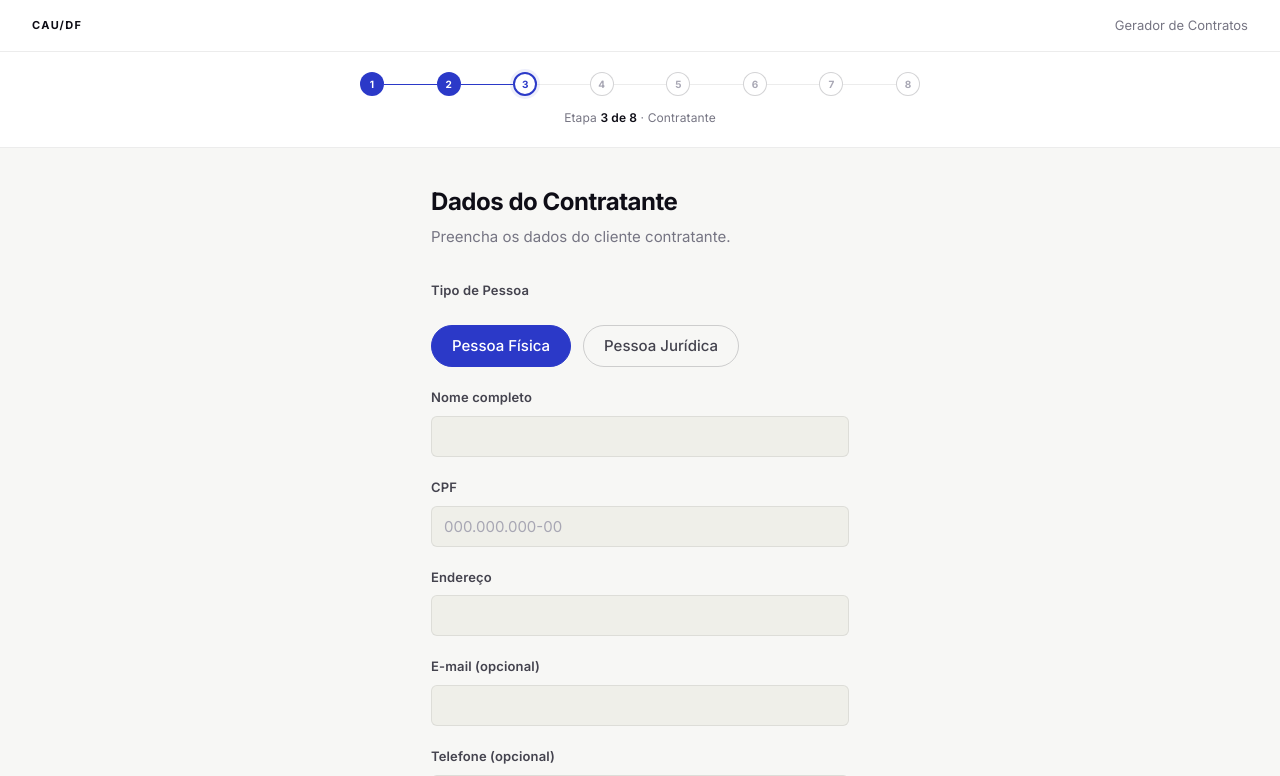
Test: ClientFormPage › all valid PF fields enables continue button
Type "João Silva" into the field labelled "Nome completo" at (640, 436), box [431,416,849,457]
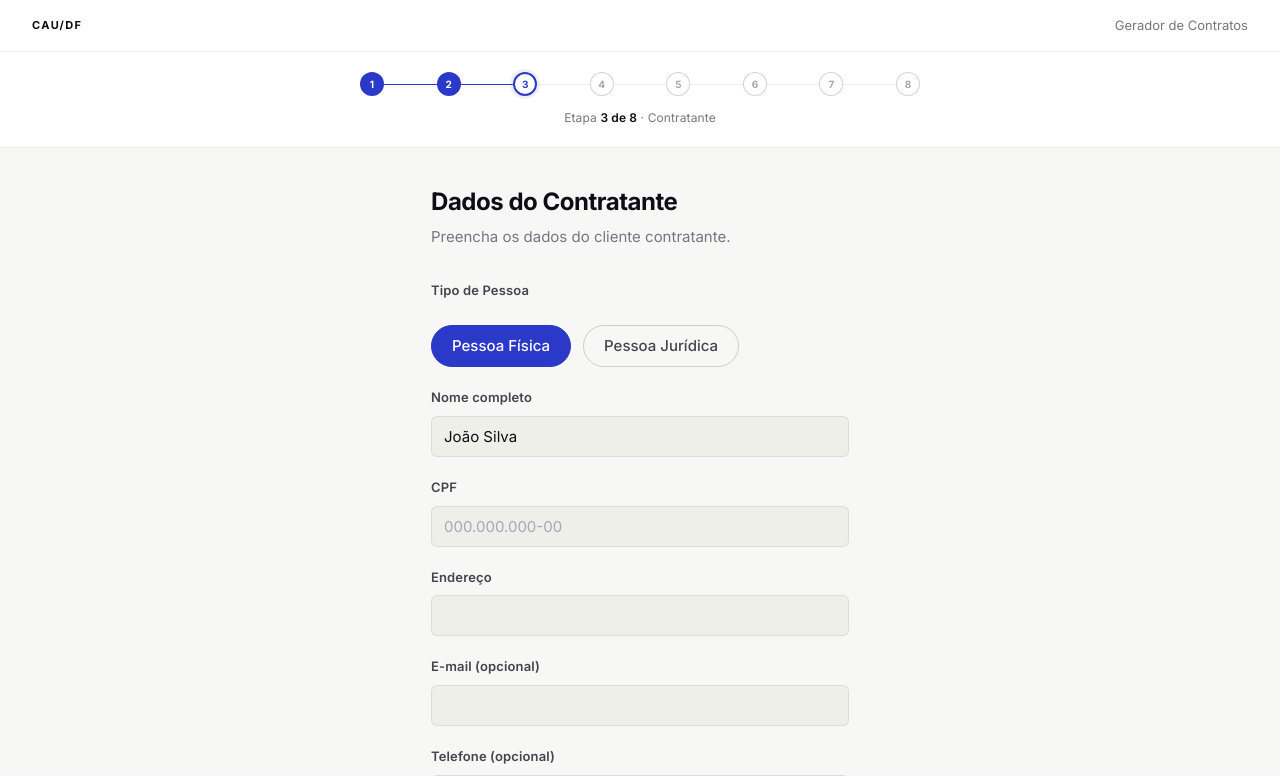
Type "529.982.247-25" into the field labelled "CPF" at (640, 526), box [431,506,849,547]
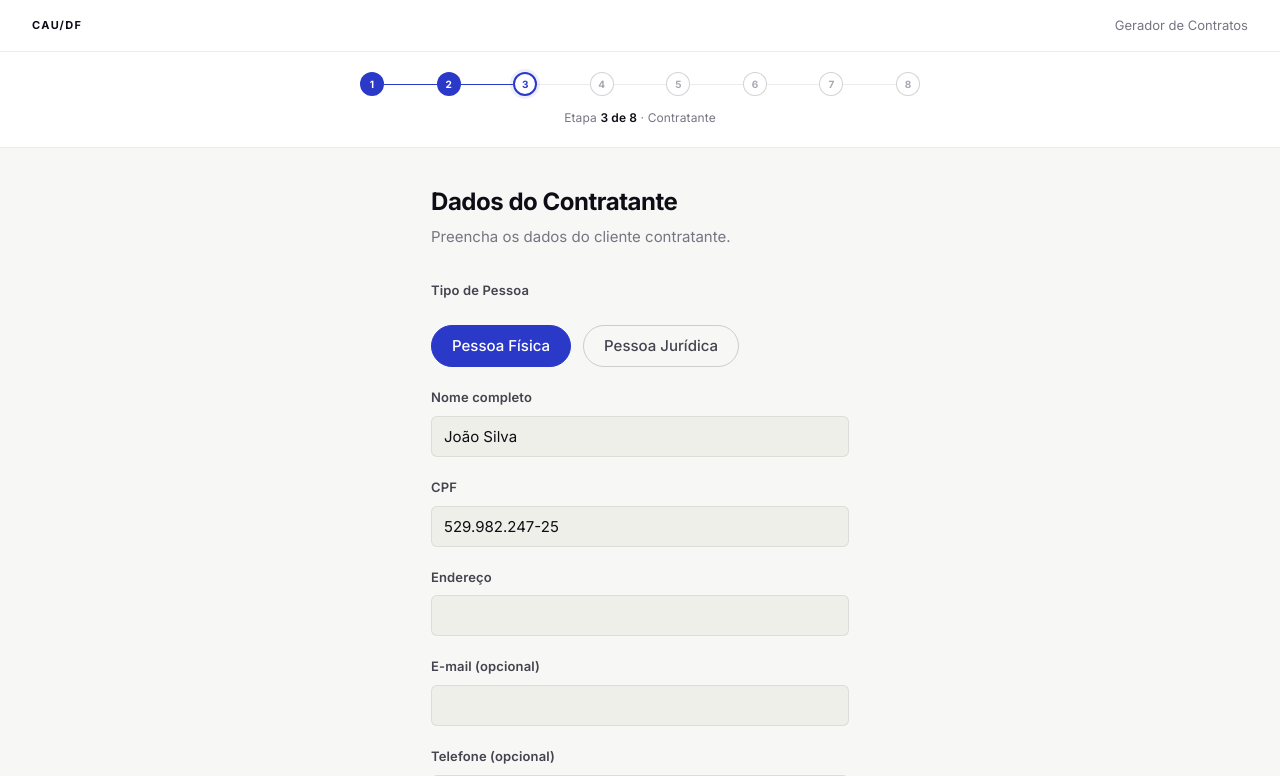
Type "Rua A, 1" into the field labelled "Endereço" at (640, 616), box [431,595,849,636]
(page scrolled)
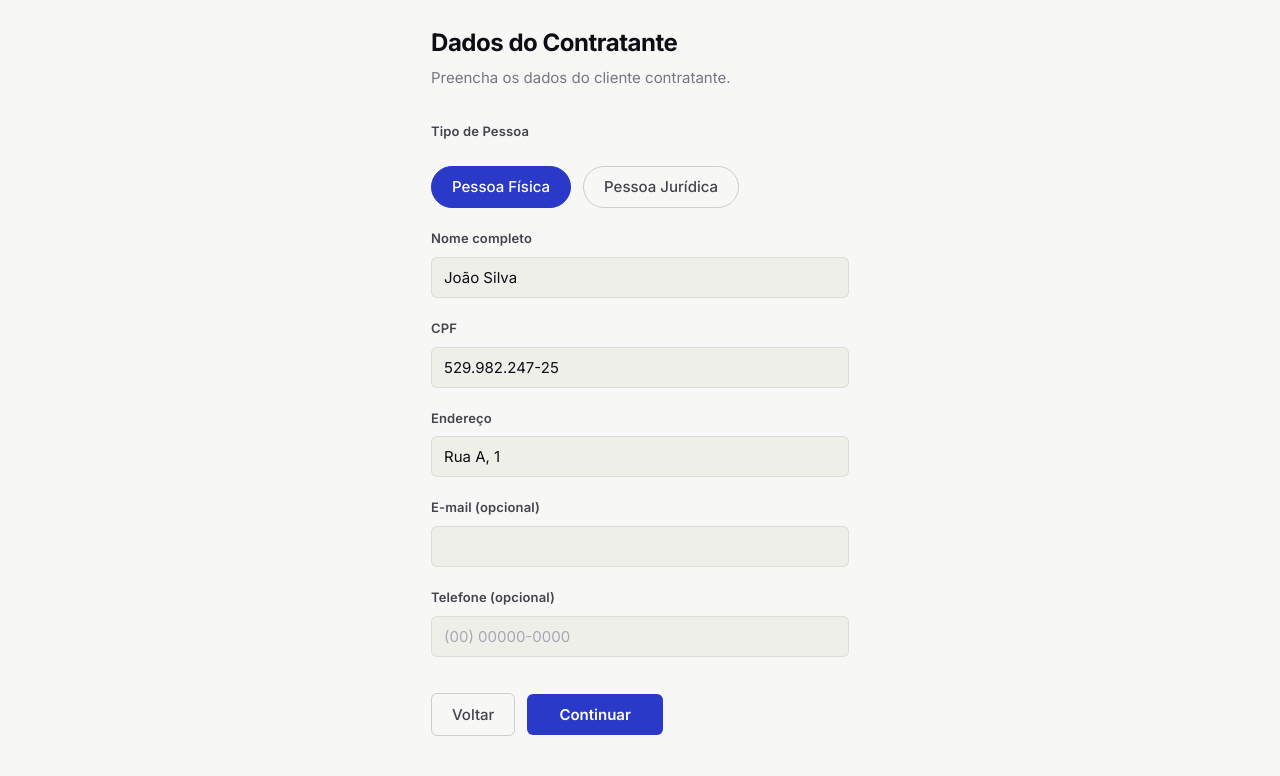
Check: the button "Continuar" is enabled, box [527,694,663,735]
